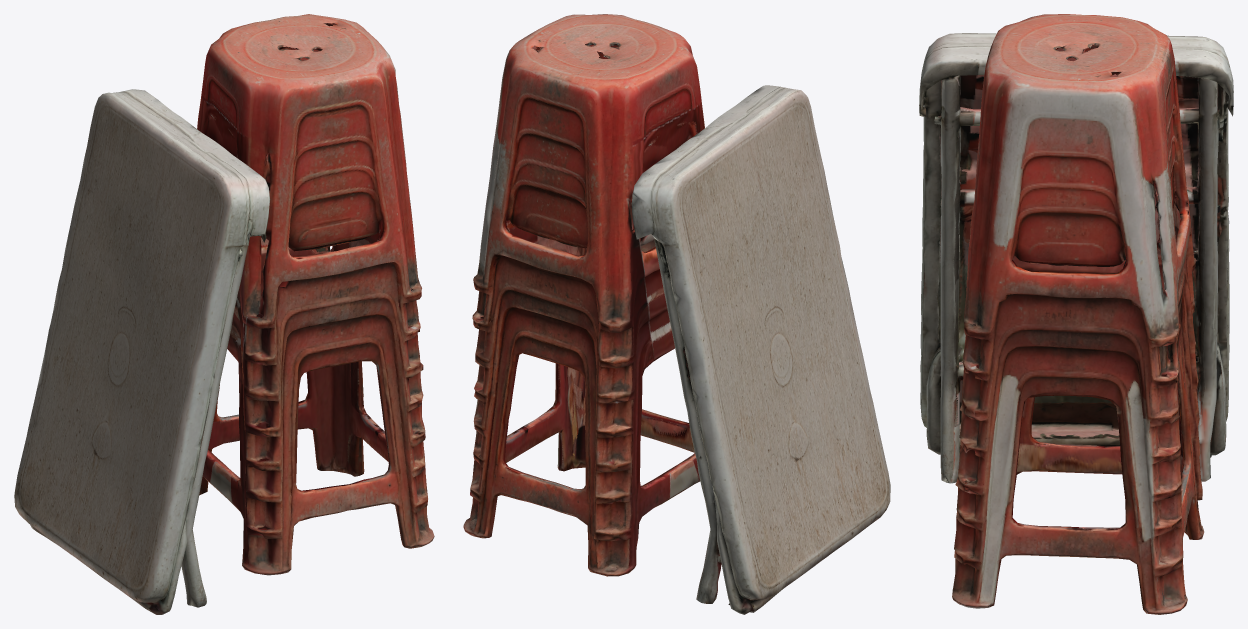
The model's file is StoolStack.glb.
3 views of the same model, side by side, from view 1: azimuth 30°, elevation 25°; view 2: azimuth 150°, elevation 25°; view 3: azimuth 270°, elevation 25° (orthographic). The views are drawn at different scales.
Visible parts, largest first — view 1: texture_mapping; view 2: texture_mapping; view 3: texture_mapping.
Part boxes in pixels (bbox=[...]): texture_mapping: bbox=[14, 14, 434, 614]; texture_mapping: bbox=[463, 14, 890, 614]; texture_mapping: bbox=[919, 14, 1233, 614].
Size of the model in its own units: 0.7131 by 1 by 0.5529.
1 material, 1 textured.
